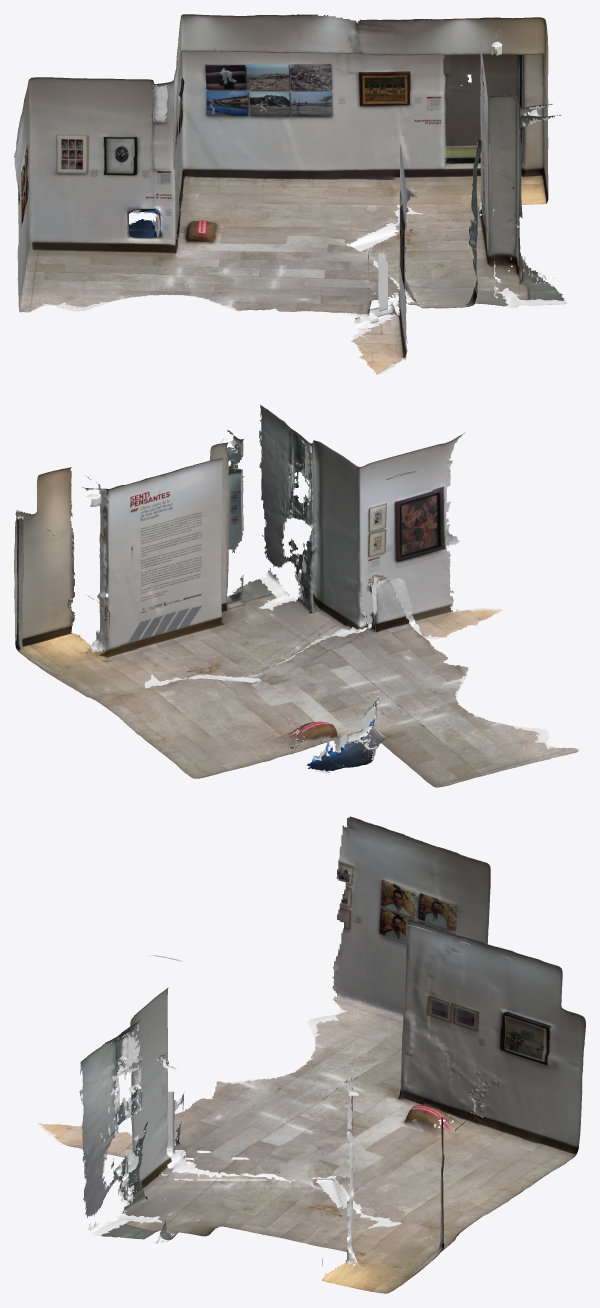
3 renders of one model, top to bottom at view 1: azimuth 30°, elevation 25°; view 2: azimuth 150°, elevation 25°; view 3: azimuth 270°, elevation 25°, orthographic. The views are drawn at different scales.
Visible parts, largest first — view 1: texture_0, texture_1, texture_4, texture_3, texture_2, object 1; view 2: texture_3, texture_4, texture_0, texture_2, texture_1, object 1; view 3: texture_0, texture_1, texture_2, texture_3, texture_4, object 1.
Part boxes in pixels (x1,y1,x2,y2): texture_0: [98, 62, 482, 311]; texture_1: [14, 74, 372, 312]; texture_4: [358, 18, 564, 306]; texture_3: [46, 17, 560, 374]; texture_2: [138, 14, 409, 314]; object 1: [18, 22, 567, 373]; texture_3: [17, 404, 539, 755]; texture_4: [14, 467, 328, 682]; texture_0: [54, 560, 488, 778]; texture_2: [131, 546, 468, 769]; texture_1: [248, 575, 579, 787]; object 1: [16, 414, 554, 773]; texture_0: [170, 993, 583, 1271]; texture_1: [276, 816, 511, 1181]; texture_2: [174, 917, 585, 1175]; texture_3: [38, 987, 443, 1234]; texture_4: [101, 1095, 461, 1293]; object 1: [37, 955, 499, 1274].
Size of the model in its own units: 9.41 by 3.03 by 7.9.
6 materials, 5 textured.
